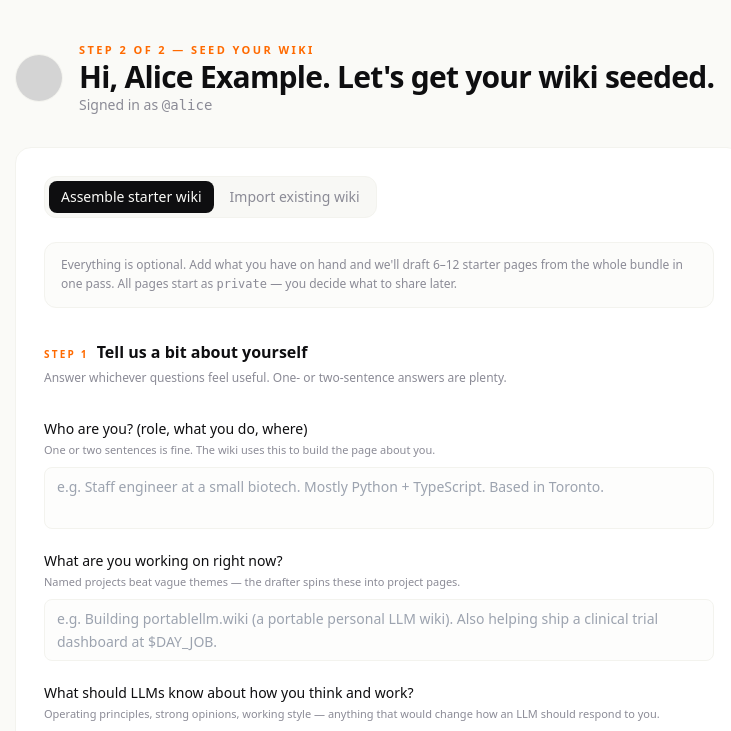
Test: WelcomePage guided-assembly form › disables submit while the bundle is empty and enables once a question is answered
The width and height of the screenshot is (731, 731).
Replace the text in the text box with test id "assemble-question-identity" with "Staff engineer at Strand Bio.": (379, 498) [44,467,714,529]
(page scrolled)
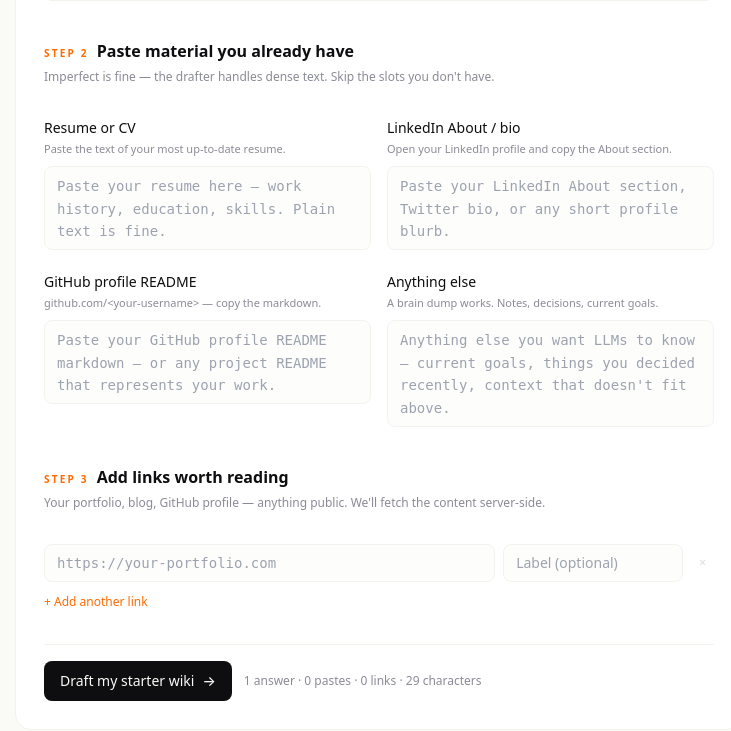
expect the button with test id "assemble-submit" is enabled: met, box [44,661,232,701]
expect the text with test id "assemble-meter" shows "1 answer": met, box [244,673,482,689]
